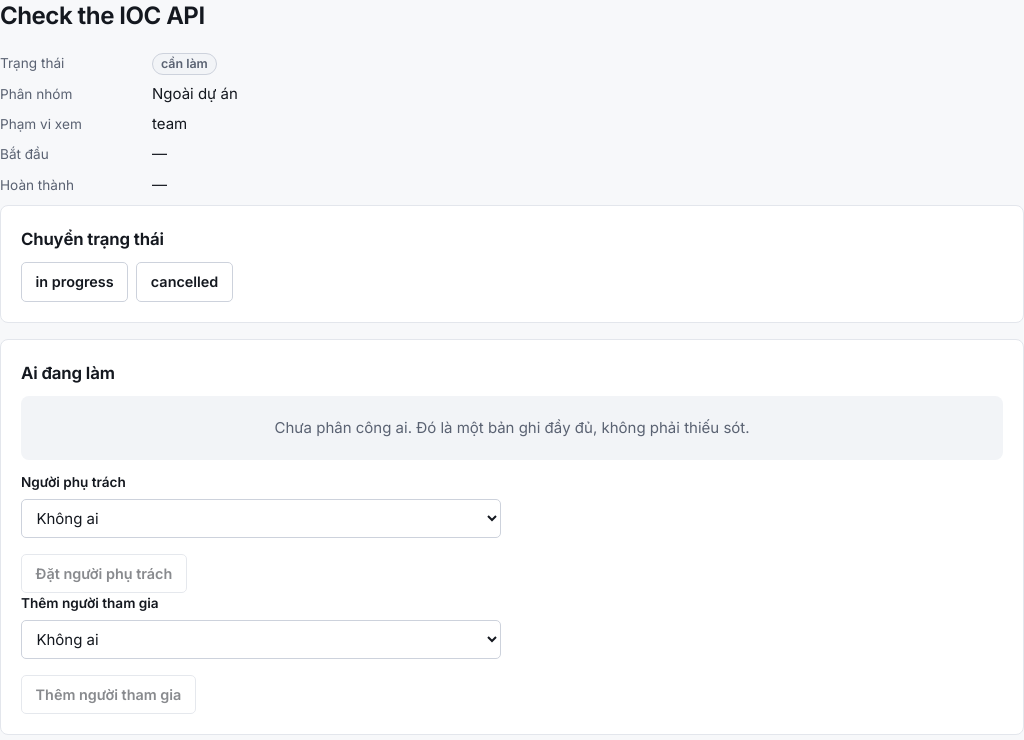
WorkDetail › explains a lost update as somebody else’s change
Click the button "in progress" at (75, 282), box 21,262 -> 128,302
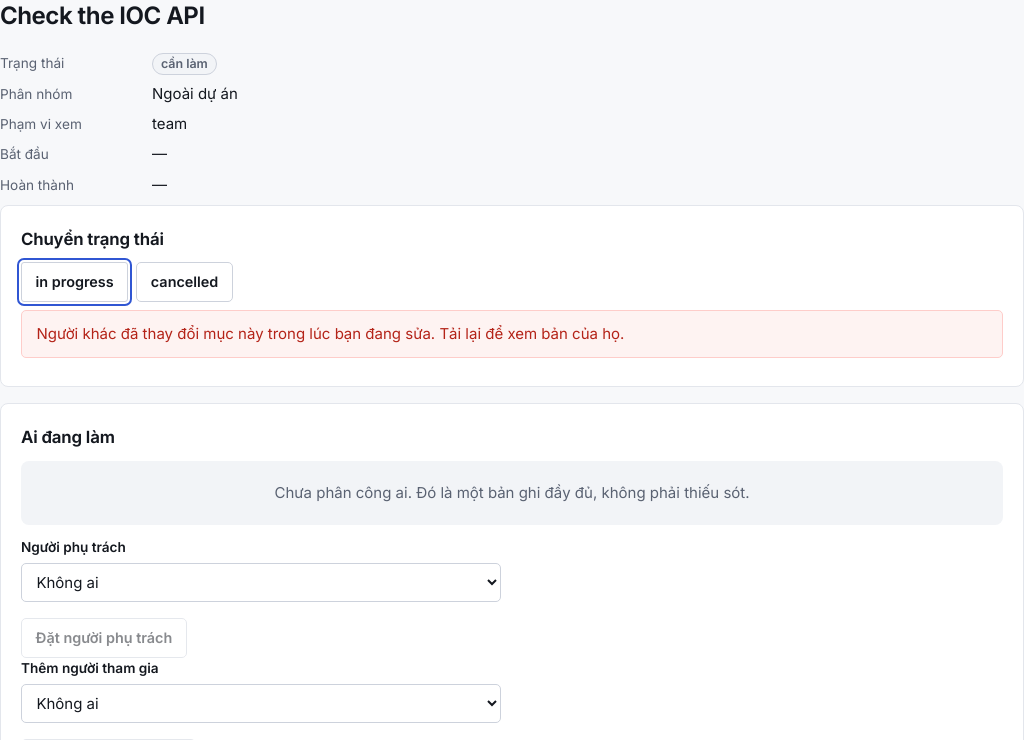
Result: the message shows "Người khác đã thay đổi mục này" at 36,324 -> 624,343
